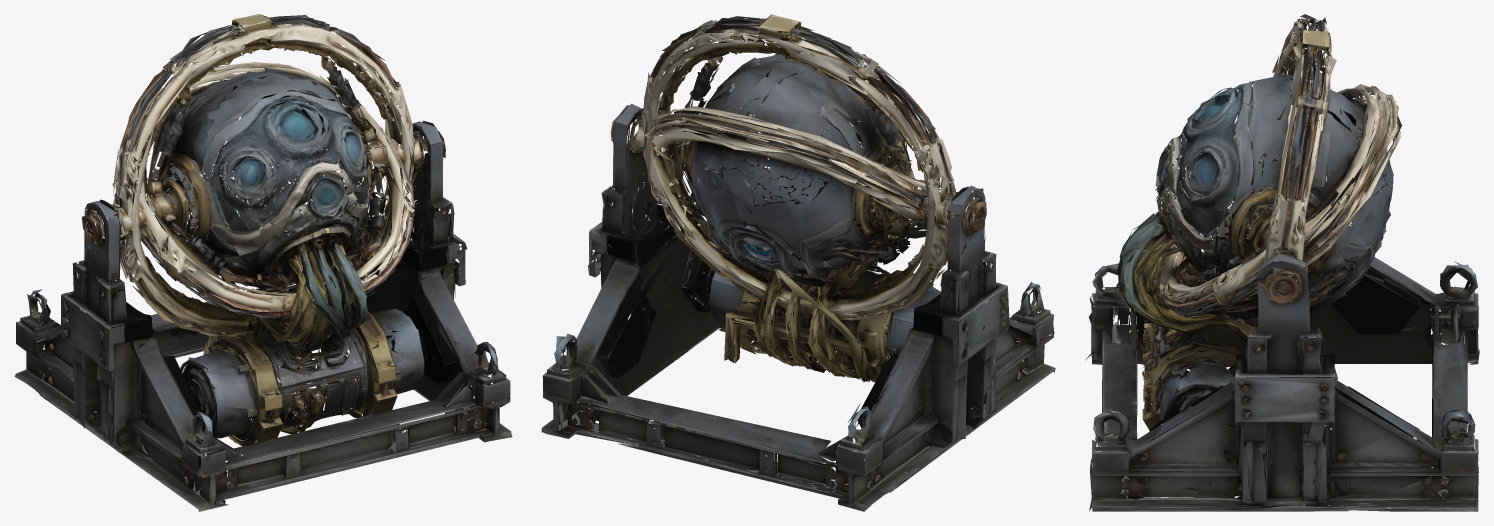
Rendered from ship_module_navigation_core.glb.
3 renders of one model, left to right at view 1: azimuth 30°, elevation 25°; view 2: azimuth 150°, elevation 25°; view 3: azimuth 270°, elevation 25°, orthographic. The views are drawn at different scales.
Visible parts, largest first — view 1: HB_BODY, HB_ROTOR_00; view 2: HB_BODY, HB_ROTOR_00; view 3: HB_BODY, HB_ROTOR_00.
Part boxes in pixels (<box>): HB_BODY: <box>14,14,512,511</box>; HB_ROTOR_00: <box>132,67,414,357</box>; HB_BODY: <box>541,14,1055,511</box>; HB_ROTOR_00: <box>662,48,953,336</box>; HB_BODY: <box>1085,14,1479,511</box>; HB_ROTOR_00: <box>1119,70,1393,359</box>.
Size of the model in its own units: 0.7681 by 0.7655 by 0.6835.
1 material, 1 textured.
